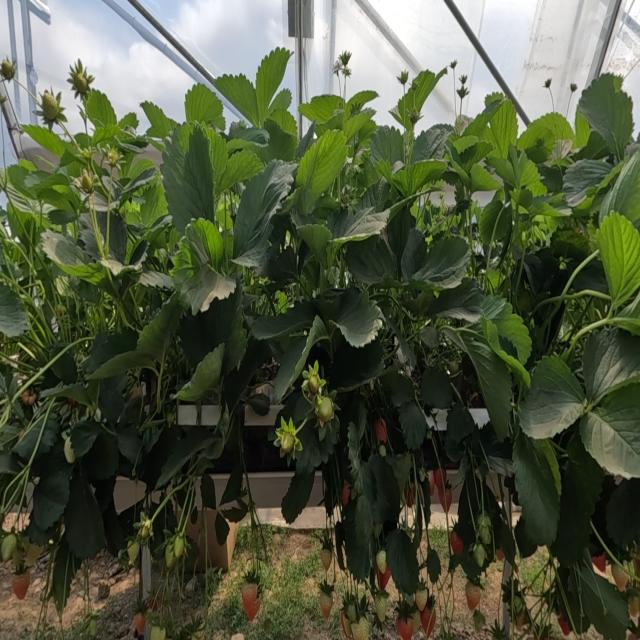Flowers: (397, 71, 409, 94), (456, 84, 469, 103), (338, 50, 351, 68), (449, 59, 457, 72), (460, 74, 468, 85), (543, 78, 551, 89), (570, 83, 577, 94), (461, 76, 466, 78)
Leaves: (233, 160, 292, 268), (179, 284, 247, 376), (173, 218, 236, 315), (160, 127, 214, 234), (580, 382, 640, 477), (520, 357, 586, 439), (462, 332, 512, 439), (513, 433, 559, 545), (577, 73, 634, 160), (273, 315, 327, 403), (295, 130, 347, 214), (596, 211, 640, 306), (583, 329, 640, 399), (64, 465, 105, 559), (159, 426, 219, 484), (411, 236, 470, 289), (331, 286, 382, 347), (599, 151, 640, 224), (329, 340, 384, 391), (177, 344, 225, 401), (255, 47, 291, 120), (346, 236, 397, 284), (83, 328, 137, 373), (252, 302, 317, 339), (562, 159, 613, 206), (427, 280, 484, 322), (492, 303, 531, 363), (216, 73, 259, 126), (367, 454, 400, 523), (327, 206, 389, 242), (518, 113, 575, 152), (386, 529, 419, 595), (343, 501, 370, 579), (82, 430, 118, 482), (387, 207, 414, 276), (281, 469, 315, 523), (185, 83, 225, 128), (42, 230, 89, 267), (296, 421, 328, 473), (489, 100, 518, 157), (480, 191, 511, 244), (97, 212, 127, 263), (411, 125, 449, 164), (263, 120, 297, 161), (420, 367, 453, 409), (140, 101, 177, 138), (380, 369, 415, 408), (399, 402, 427, 450), (401, 228, 426, 281), (70, 420, 103, 458), (371, 126, 403, 165), (86, 88, 116, 127), (355, 495, 373, 557), (486, 440, 514, 476), (117, 425, 142, 464), (308, 95, 343, 122), (470, 164, 500, 192), (342, 113, 371, 140), (81, 216, 99, 258), (234, 127, 269, 147), (481, 295, 507, 319), (140, 271, 173, 289), (269, 88, 292, 113), (420, 325, 439, 347), (342, 482, 350, 503)
Strawberries: (501, 571, 531, 628), (36, 89, 67, 130), (67, 59, 94, 101), (274, 416, 302, 456), (315, 396, 334, 425), (476, 511, 492, 545), (465, 581, 481, 612), (421, 607, 436, 638), (241, 581, 257, 610), (611, 565, 628, 591), (75, 170, 93, 194), (351, 617, 369, 639), (133, 609, 146, 639), (318, 592, 332, 619), (438, 486, 452, 512), (245, 597, 260, 621), (434, 468, 446, 498), (376, 567, 391, 590), (557, 613, 572, 636), (627, 591, 640, 617), (397, 618, 413, 639), (375, 595, 387, 623), (415, 585, 428, 610), (374, 418, 387, 443), (308, 369, 320, 396), (0, 60, 15, 81), (127, 540, 140, 564), (173, 534, 185, 560), (473, 543, 486, 567), (450, 529, 463, 553), (340, 611, 351, 639), (165, 541, 176, 568), (404, 482, 415, 508), (592, 552, 606, 572), (140, 517, 152, 540), (320, 549, 332, 571), (343, 603, 356, 623), (473, 610, 485, 631), (376, 549, 386, 572), (150, 625, 166, 639), (413, 609, 421, 634), (87, 620, 97, 639), (107, 149, 118, 166), (428, 471, 435, 497)
